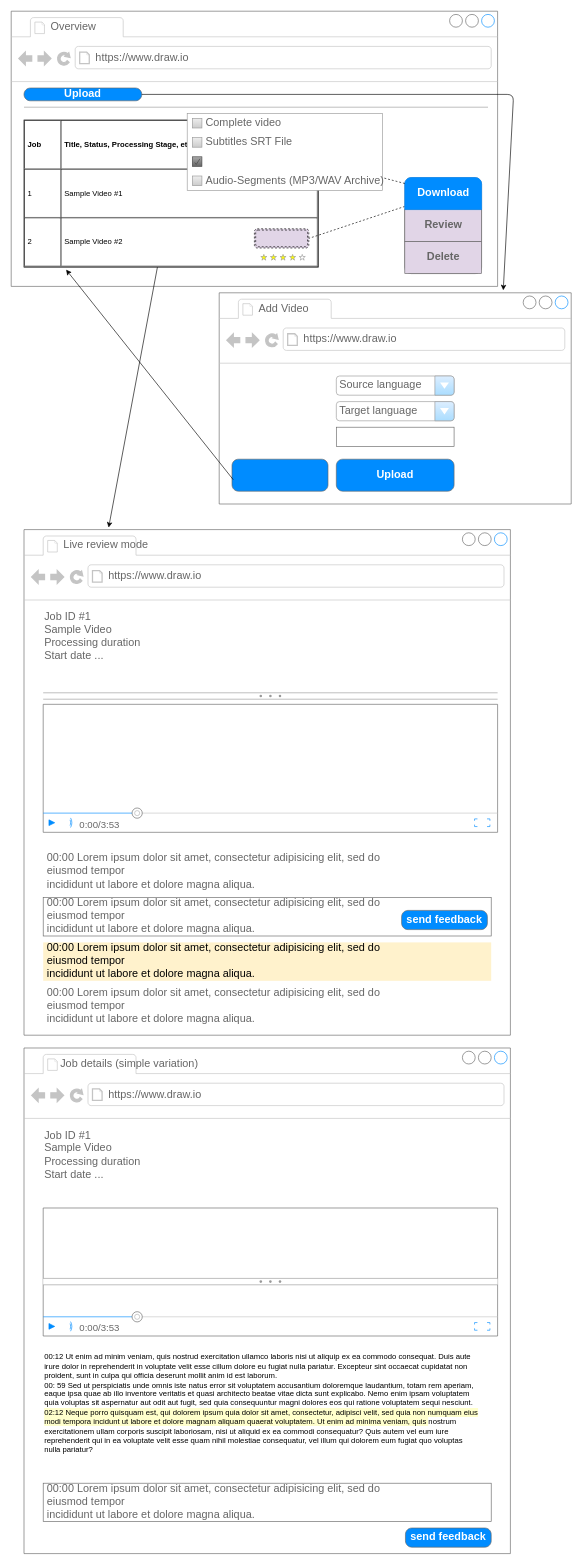
The diagram is 582 pixels wide and 1565 high, and some of its shapes have lost their labels. The shapes that lost their labels are listed below. From the top down, each one's centre as x and y in pixels, then its label:
the point at 197,161: Caption SRT File
the point at 395,436: Select video
the point at 279,475: back to overview
